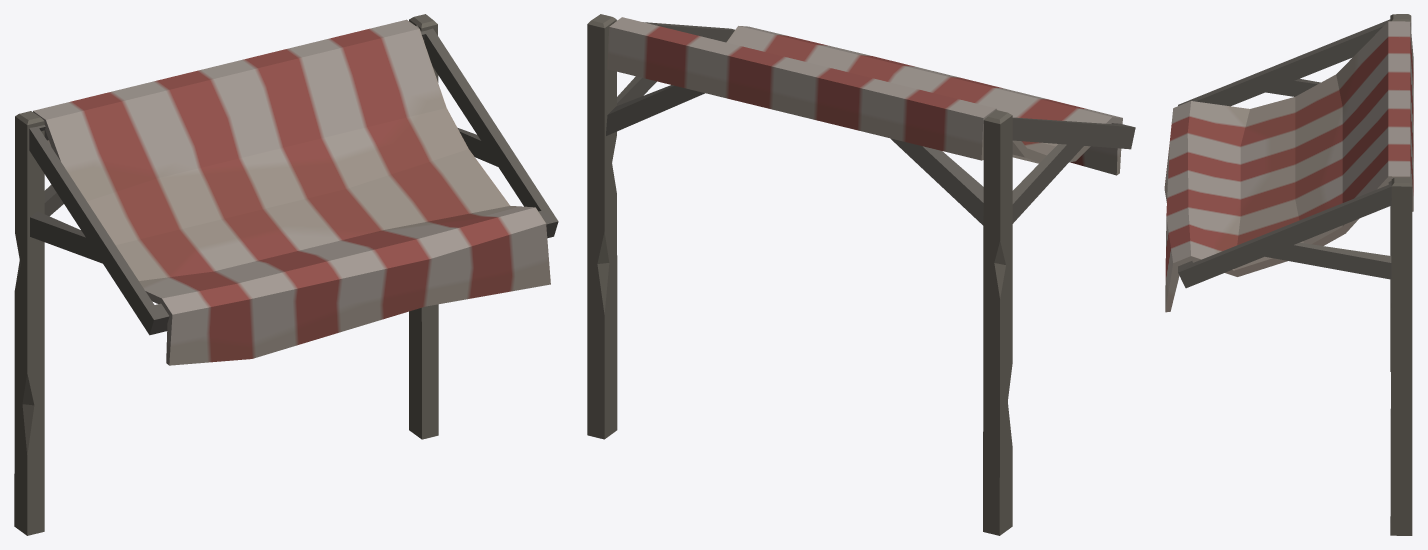
File: SM_Bld_Village_ClothCover_Slope_02.glb
3 views of the same model, side by side, from view 1: azimuth 30°, elevation 25°; view 2: azimuth 150°, elevation 25°; view 3: azimuth 270°, elevation 25° (orthographic). The views are drawn at different scales.
Visible parts, largest first — view 1: SM_Bld_Village_ClothCover_Slope_02; view 2: SM_Bld_Village_ClothCover_Slope_02; view 3: SM_Bld_Village_ClothCover_Slope_02.
Boxes of the visible parts, box(x1,y1,x2,y2) form: SM_Bld_Village_ClothCover_Slope_02: box(14, 14, 558, 535); SM_Bld_Village_ClothCover_Slope_02: box(587, 14, 1135, 535); SM_Bld_Village_ClothCover_Slope_02: box(1164, 14, 1413, 535).
Bounding box in the file's own units: 3.63 × 3.49 × 2.23.
Materials: 1 (1 with a texture image).
